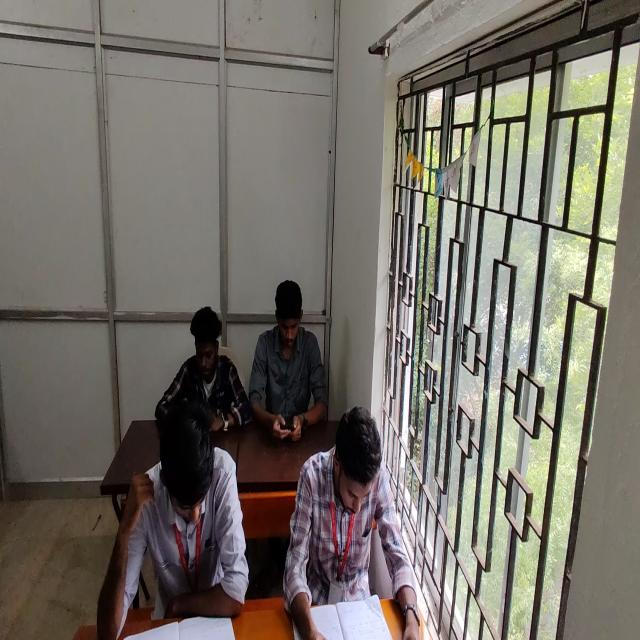reading: (97, 398, 247, 638), (281, 406, 402, 640)
using_mobile: (251, 279, 329, 442), (154, 305, 250, 437)
